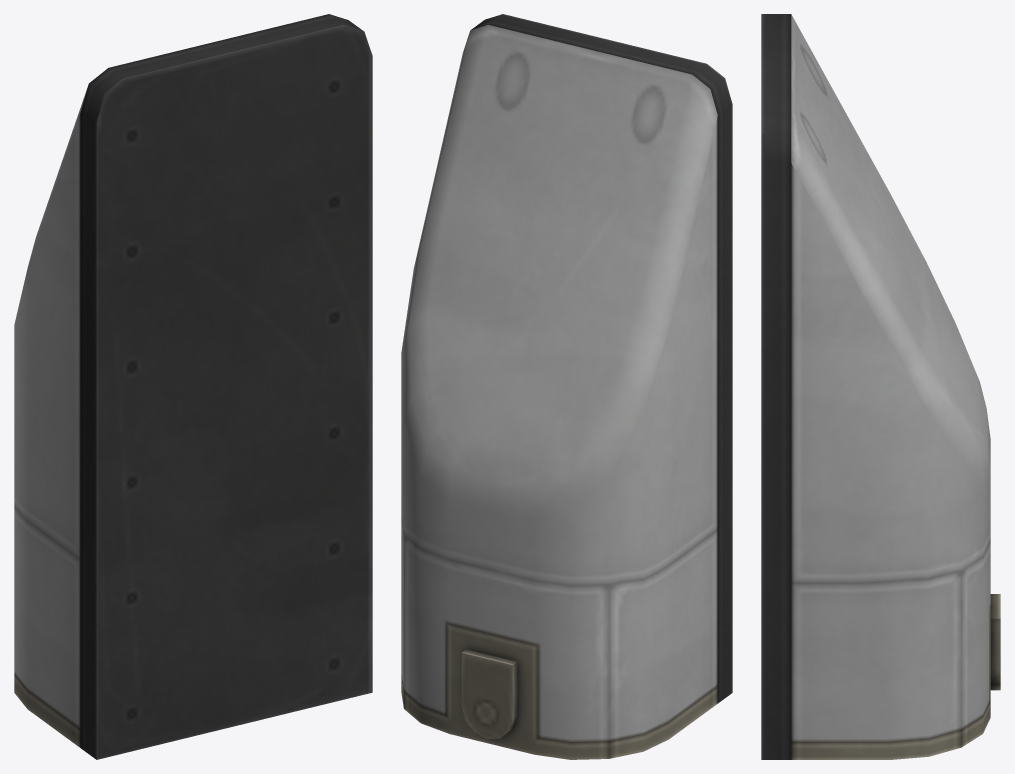
File: lower vernier.obj
3 views of the same model, side by side, from view 1: azimuth 30°, elevation 25°; view 2: azimuth 150°, elevation 25°; view 3: azimuth 270°, elevation 25° (orthographic). The views are drawn at different scales.
Parts seen in each view (by area): view 1: 2; view 2: 2; view 3: 2.
Boxes of the visible parts, bbox=[...] form: 2: bbox=[14, 14, 372, 759]; 2: bbox=[401, 14, 732, 759]; 2: bbox=[761, 14, 1000, 759].
Bounding box in the file's own units: 0.375 × 0.875 × 0.3.
Materials: 1 (1 with a texture image).
